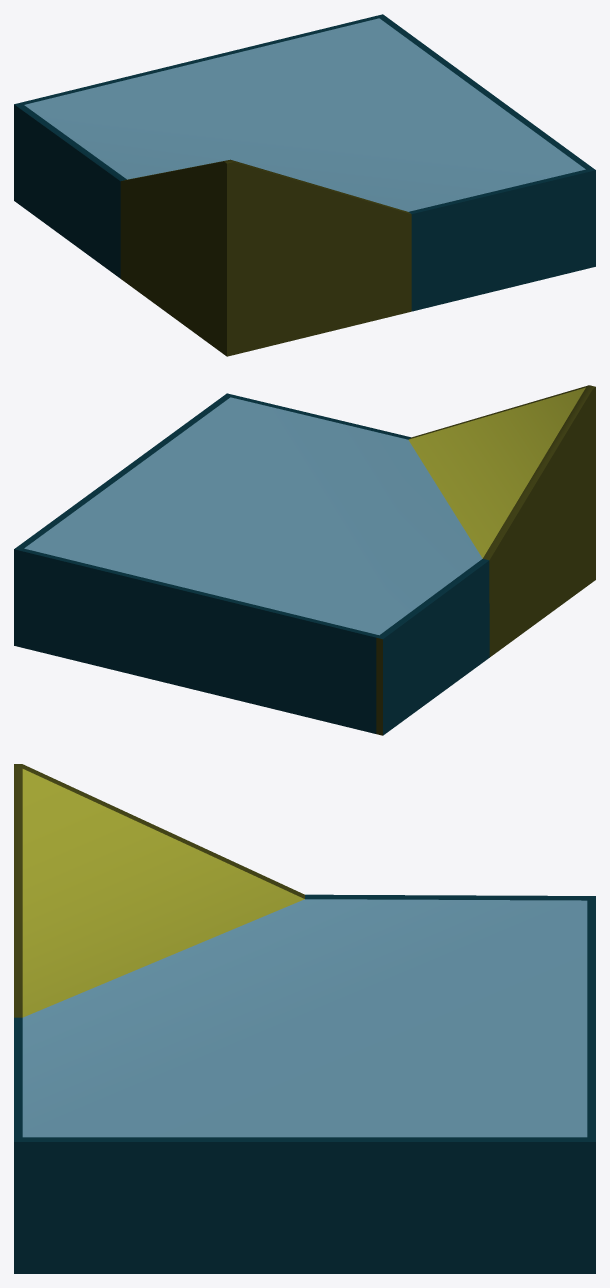
The model's file is Agua_10.fbx.
3 views of the same model, one above another, from view 1: azimuth 30°, elevation 25°; view 2: azimuth 150°, elevation 25°; view 3: azimuth 270°, elevation 25° (orthographic). The views are drawn at different scales.
Visible parts, largest first — view 1: pCube6; view 2: pCube6; view 3: pCube6.
Boxes of the visible parts, x1,y1,x2,y2 form: pCube6: (14,14,595,356); pCube6: (14,385,595,735); pCube6: (14,764,595,1273).
Size of the model in its own units: 200 by 100 by 200.
